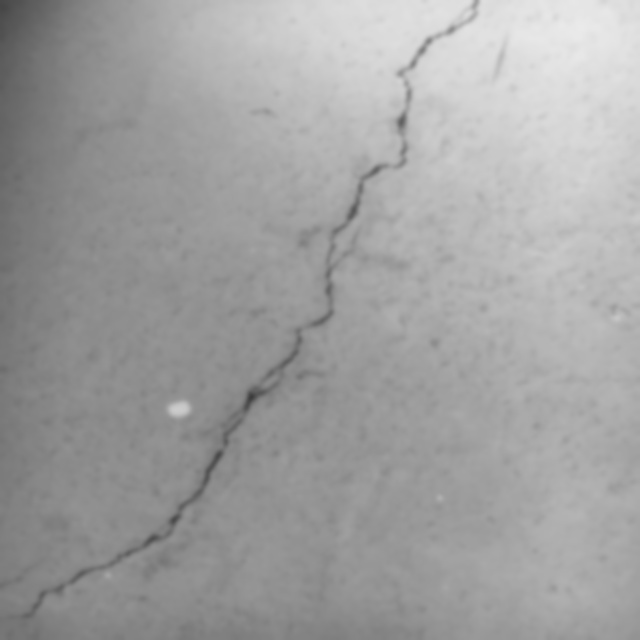SurfaceCrack: (1, 0, 586, 639)
